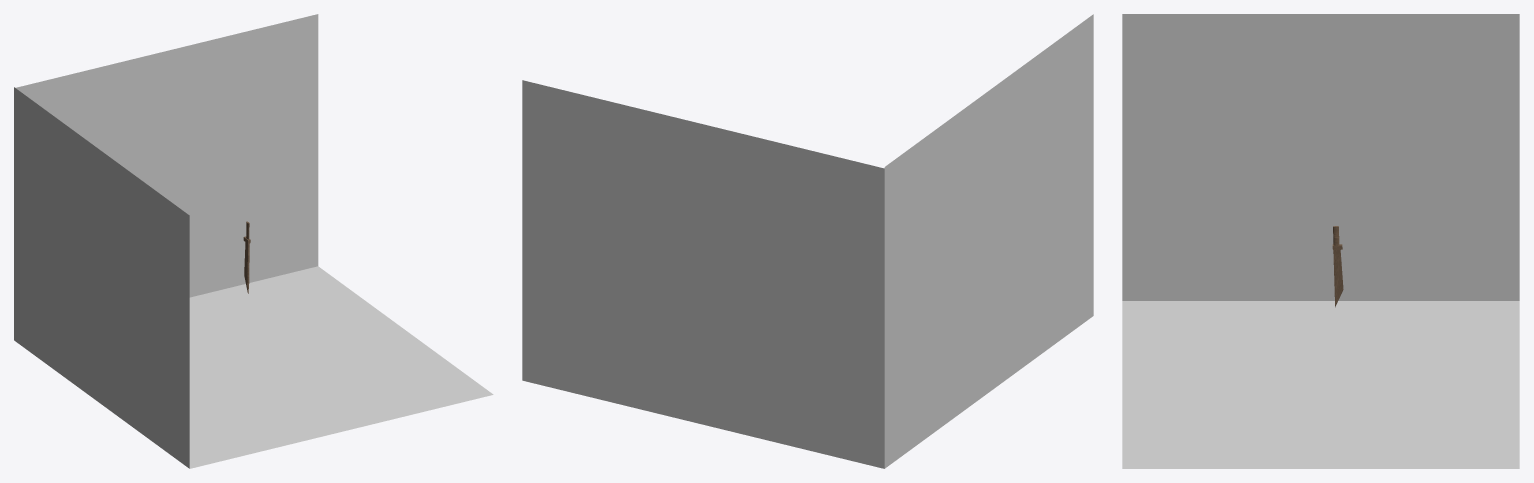
Rendered from 木のナイフ.fbx.
3 renders of one model, left to right at view 1: azimuth 30°, elevation 25°; view 2: azimuth 150°, elevation 25°; view 3: azimuth 270°, elevation 25°, orthographic. The views are drawn at different scales.
Parts seen in each view (by area): view 1: 平面; view 2: 平面; view 3: 平面.
Boxes of the visible parts, x1,y1,x2,y2 form: 平面: (14,14,493,468); 平面: (522,14,1093,468); 平面: (1122,14,1519,468).
Bounding box in the file's own units: 2624 × 2089 × 2624.
Materials: 4 (3 with a texture image).
